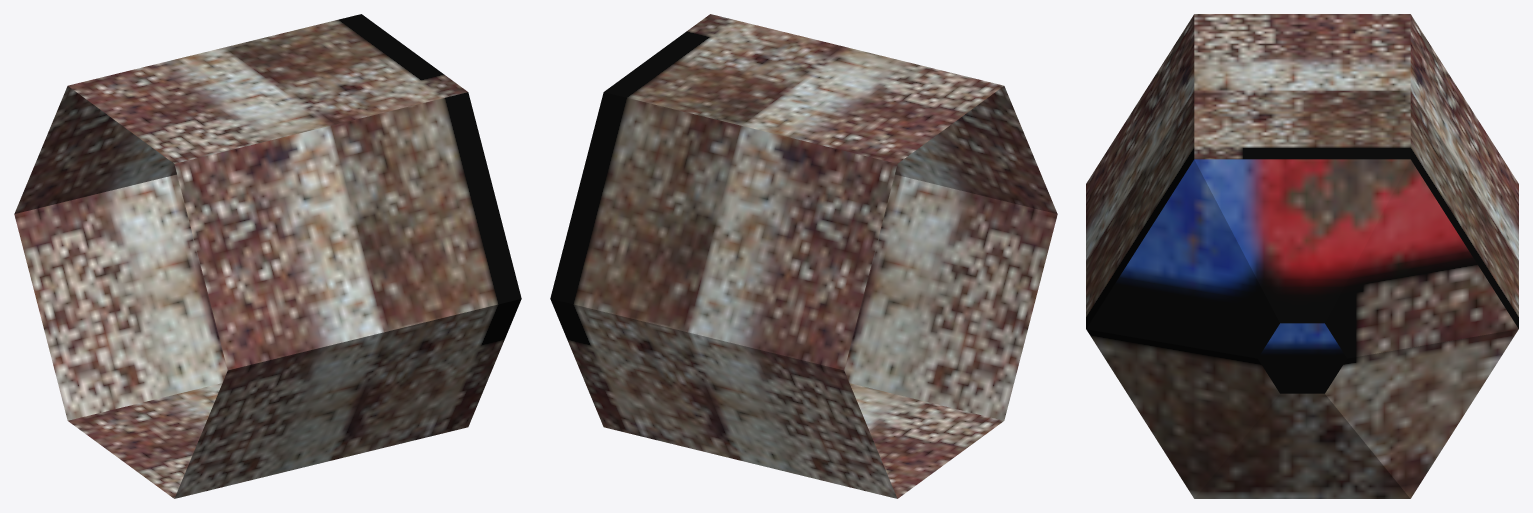
File: Urban_PipeEndpieceRusted_Model.fbx
3 views of the same model, side by side, from view 1: azimuth 30°, elevation 25°; view 2: azimuth 150°, elevation 25°; view 3: azimuth 270°, elevation 25° (orthographic).
Visible parts, largest first — view 1: Urban_PipeEndpieceRusted_Mesh; view 2: Urban_PipeEndpieceRusted_Mesh; view 3: Urban_PipeEndpieceRusted_Mesh.
Part boxes in pixels (left/top/right/bottom): Urban_PipeEndpieceRusted_Mesh: left=14, top=14, right=521, bottom=498; Urban_PipeEndpieceRusted_Mesh: left=550, top=14, right=1057, bottom=498; Urban_PipeEndpieceRusted_Mesh: left=1086, top=14, right=1518, bottom=498.
Size of the model in its own units: 0.2384 by 0.216 by 0.2494.
